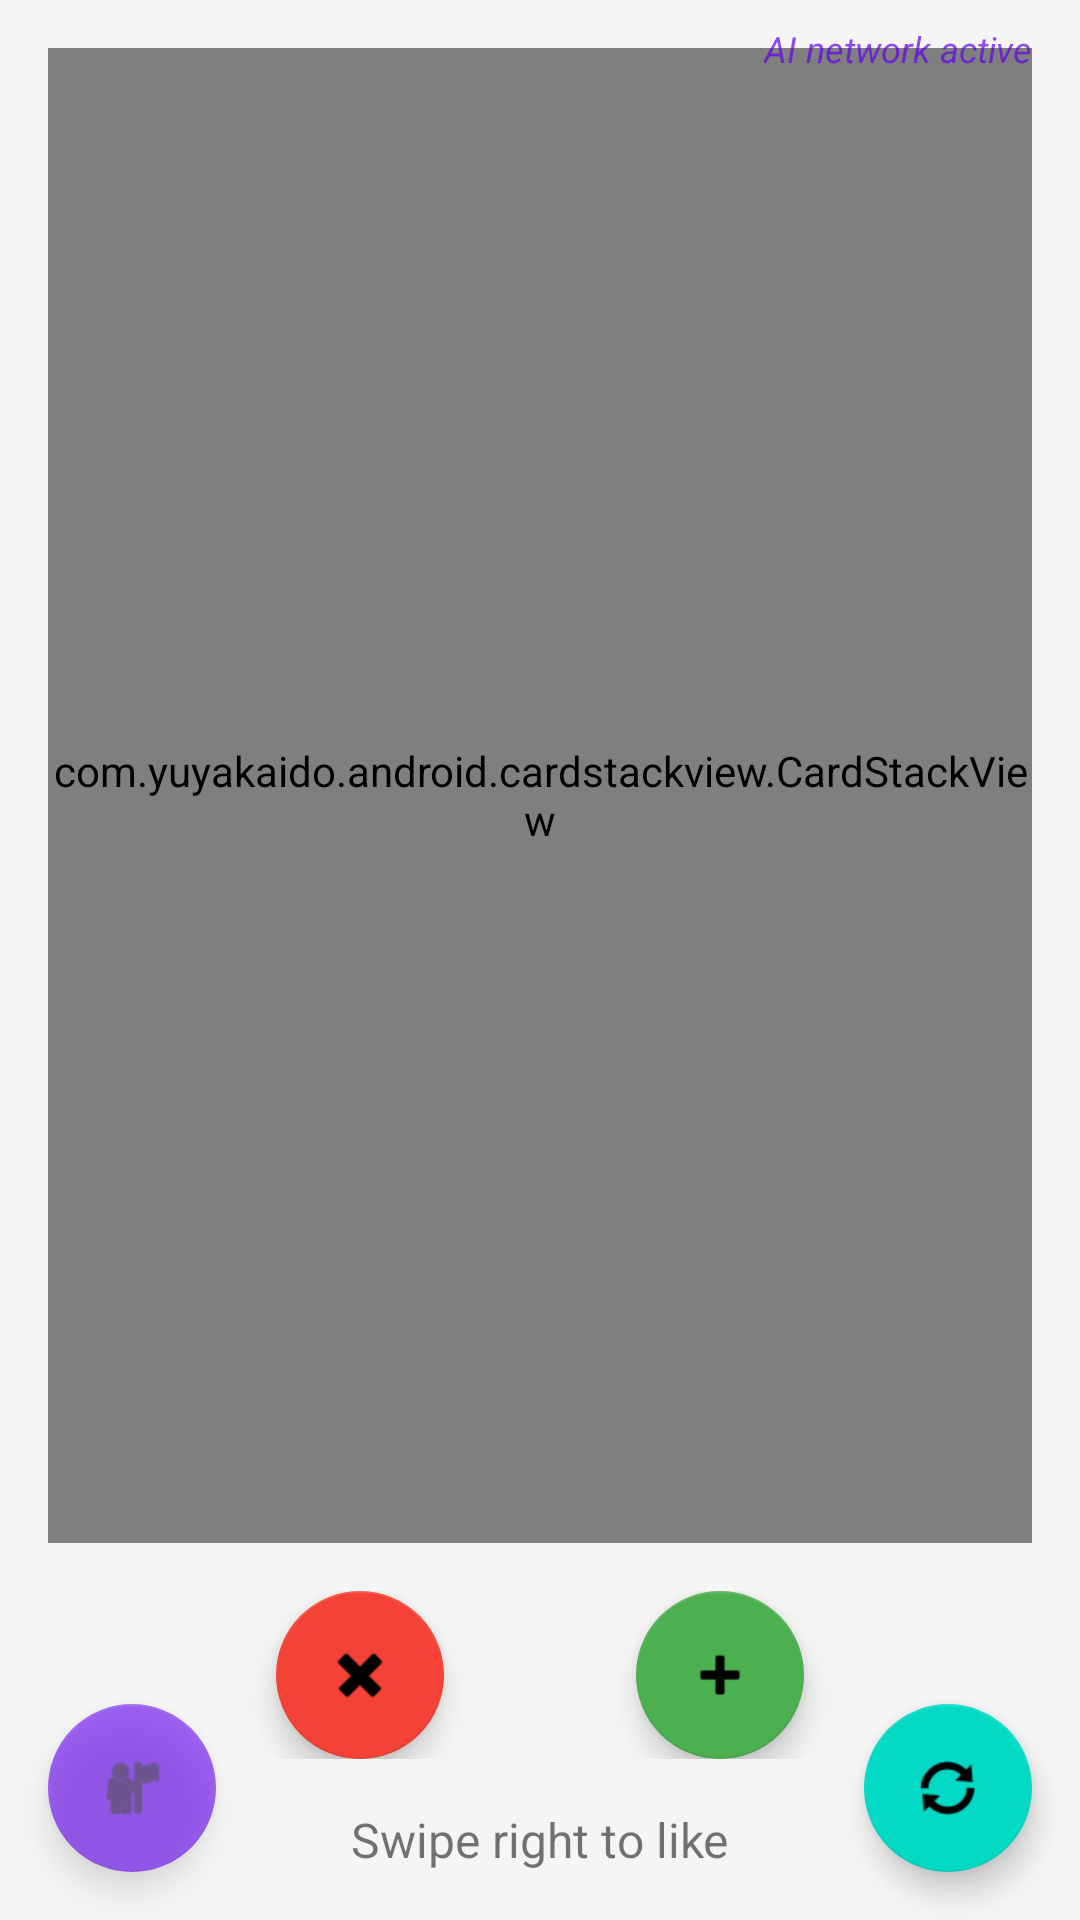

Icons on this 1080 × 1920 Android screen, each with the point to tap as (x,y):
Refresh: (948,1788)
Swipe left to reject: (360,1675)
